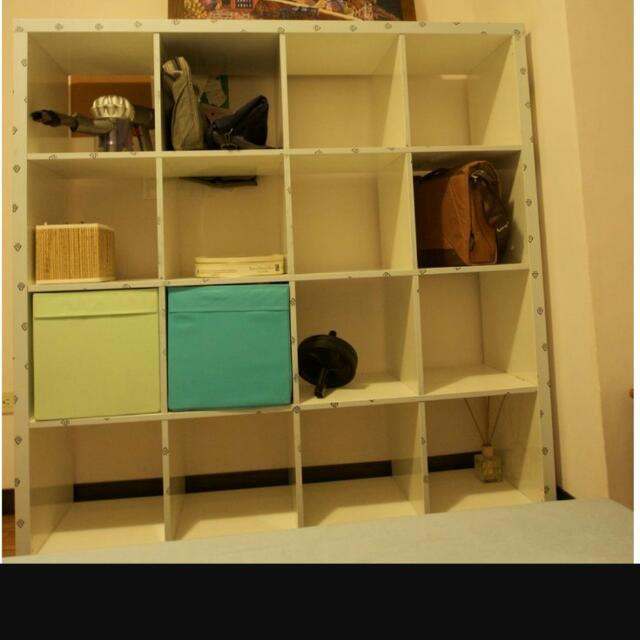Shelf: (9, 16, 563, 563)
